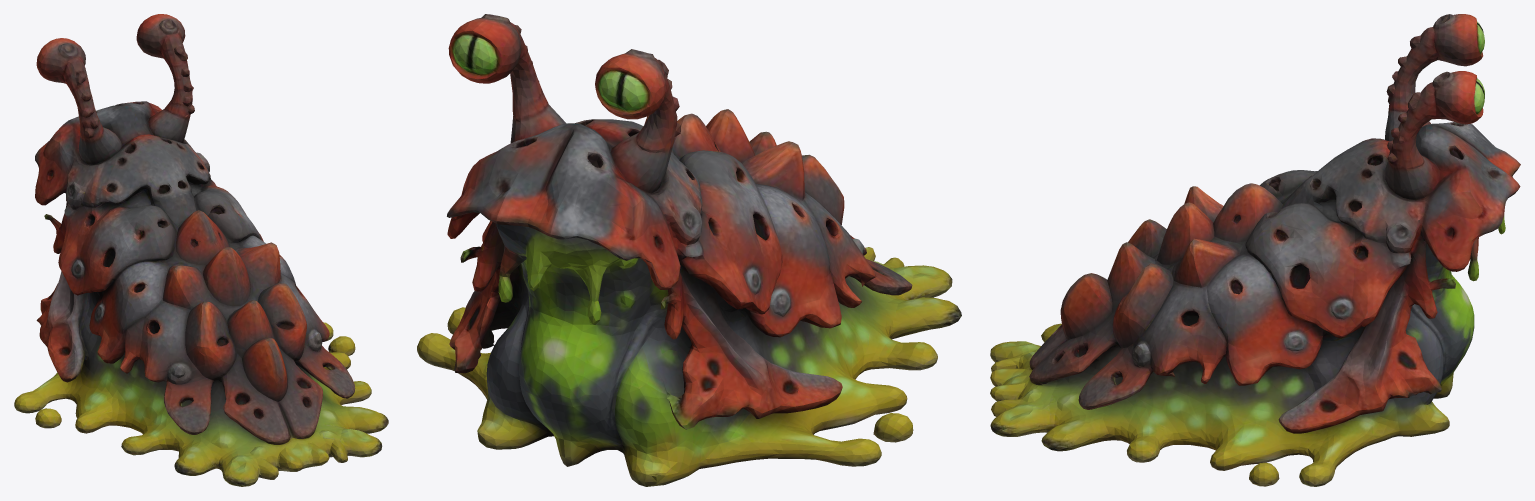
The model's file is lo_gleamgrub.8cbc3636.glb.
3 views of the same model, side by side, from view 1: azimuth 30°, elevation 25°; view 2: azimuth 150°, elevation 25°; view 3: azimuth 270°, elevation 25° (orthographic). The views are drawn at different scales.
Visible parts, largest first — view 1: world; view 2: world; view 3: world.
Part boxes in pixels (left/top/right/bottom): world: left=14, top=14, right=388, bottom=486; world: left=417, top=14, right=961, bottom=486; world: left=990, top=14, right=1520, bottom=486.
Size of the model in its own units: 0.8111 by 0.7492 by 1.
1 material, 1 textured.
